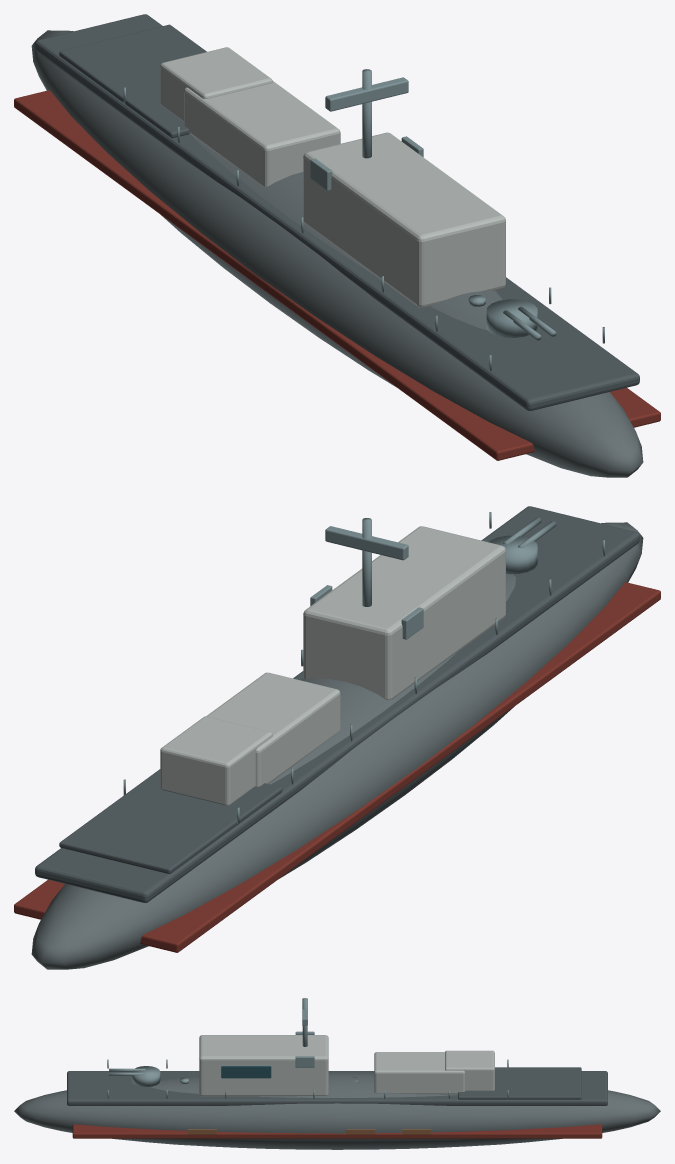
File: destroyer-lod1.glb
3 renders of one model, top to bottom at view 1: azimuth 30°, elevation 25°; view 2: azimuth 150°, elevation 25°; view 3: azimuth 270°, elevation 25°, orthographic. The views are drawn at different scales.
Visible parts, largest first — view 1: destroyer-hull, forward-superstructure, destroyer-deck, destroyer-waterline, aft-superstructure, aft-flight-deck, stern-hangar, forward-gun-turret, main-radar-array, main-radar-mast; view 2: destroyer-hull, forward-superstructure, destroyer-deck, destroyer-waterline, aft-flight-deck, aft-superstructure, stern-hangar, main-radar-array, forward-gun-turret, main-radar-mast; view 3: destroyer-hull, destroyer-deck, forward-superstructure, destroyer-waterline, aft-superstructure, aft-flight-deck, stern-hangar, bridge-window-band, forward-gun-turret.
Boxes of the visible parts, x1,y1,x2,y2 form: destroyer-hull: (31,30,643,477); forward-superstructure: (303,132,505,308); destroyer-deck: (35,14,639,410); destroyer-waterline: (14,90,660,460); aft-superstructure: (184,81,340,186); aft-flight-deck: (59,24,206,138); stern-hangar: (160,47,272,121); forward-gun-turret: (486,299,537,337); main-radar-array: (325,77,408,111); main-radar-mast: (362,69,371,158); destroyer-hull: (31,522,643,969); forward-superstructure: (303,526,505,700); destroyer-deck: (35,506,639,902); destroyer-waterline: (14,582,660,952); aft-flight-deck: (59,769,282,873); aft-superstructure: (206,672,340,786); stern-hangar: (160,716,272,805); main-radar-array: (325,526,408,560); forward-gun-turret: (489,535,537,574); main-radar-mast: (362,518,371,606); destroyer-hull: (14,1072,660,1149); destroyer-deck: (67,1071,607,1105); forward-superstructure: (199,1035,328,1096); destroyer-waterline: (72,1124,602,1138); aft-superstructure: (374,1052,465,1094); aft-flight-deck: (458,1067,581,1099); stern-hangar: (445,1050,494,1090); bridge-window-band: (221,1066,271,1078); forward-gun-turret: (132,1066,160,1086).
Bounding box in the file's own units: 3.55 × 5.4 × 22.
